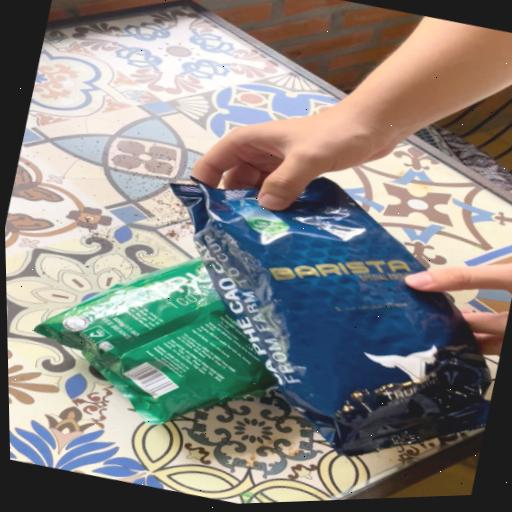cafe_hat: (171, 177, 490, 456)
cafe_xay: (36, 259, 275, 424)
